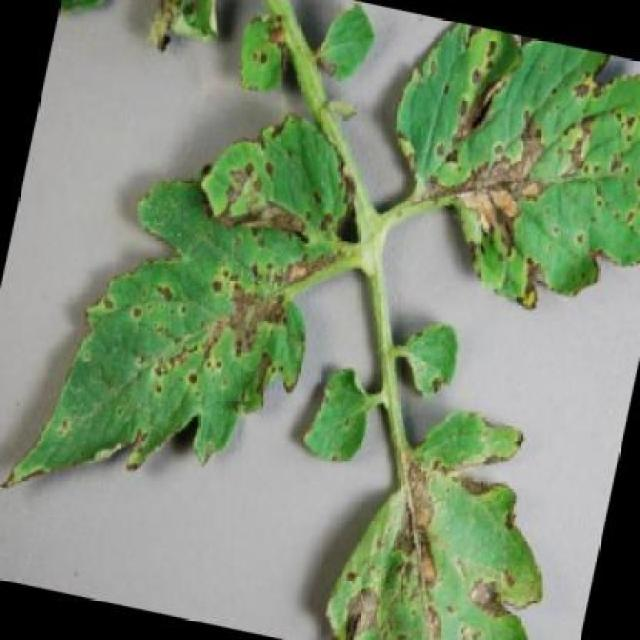Septoria leaf spot: (0, 68, 371, 570), (342, 9, 638, 345), (312, 380, 598, 640)
